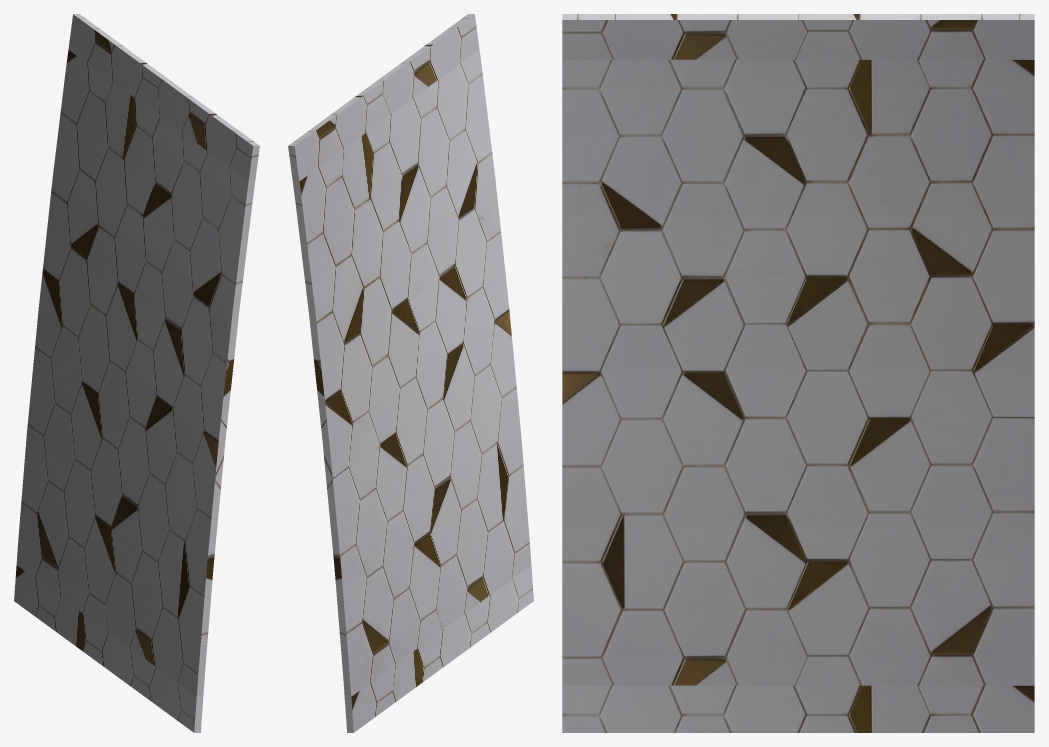
Rendered from back-splash-two.glb.
The picture shows the model from 3 angles, left to right: view 1: azimuth 30°, elevation 25°; view 2: azimuth 150°, elevation 25°; view 3: azimuth 270°, elevation 25°; orthographic projection. The views are drawn at different scales.
Visible parts, largest first — view 1: Cube; view 2: Cube; view 3: Cube.
Boxes of the visible parts, x1,y1,x2,y2 form: Cube: (14,14,259,732); Cube: (288,14,533,732); Cube: (562,14,1034,732).
Bounding box in the file's own units: 0.077 × 0.6427 × 0.3657.
Materials: 1 (1 with a texture image).
